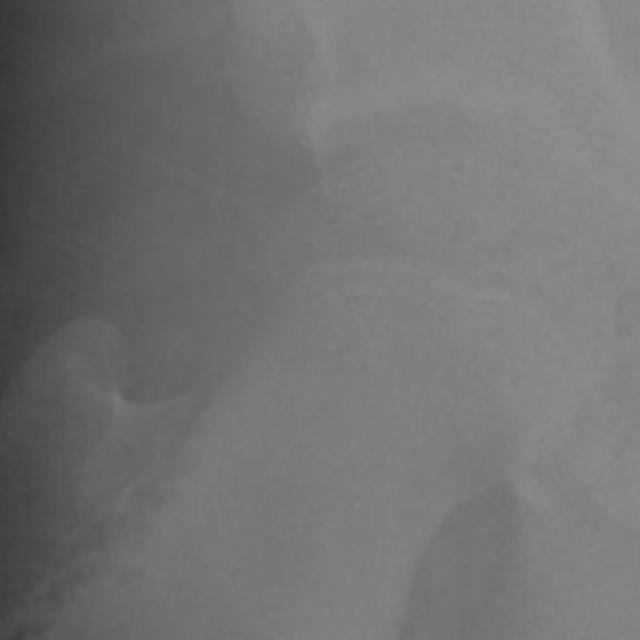Fitted_femural_head: (358, 143, 432, 358)
